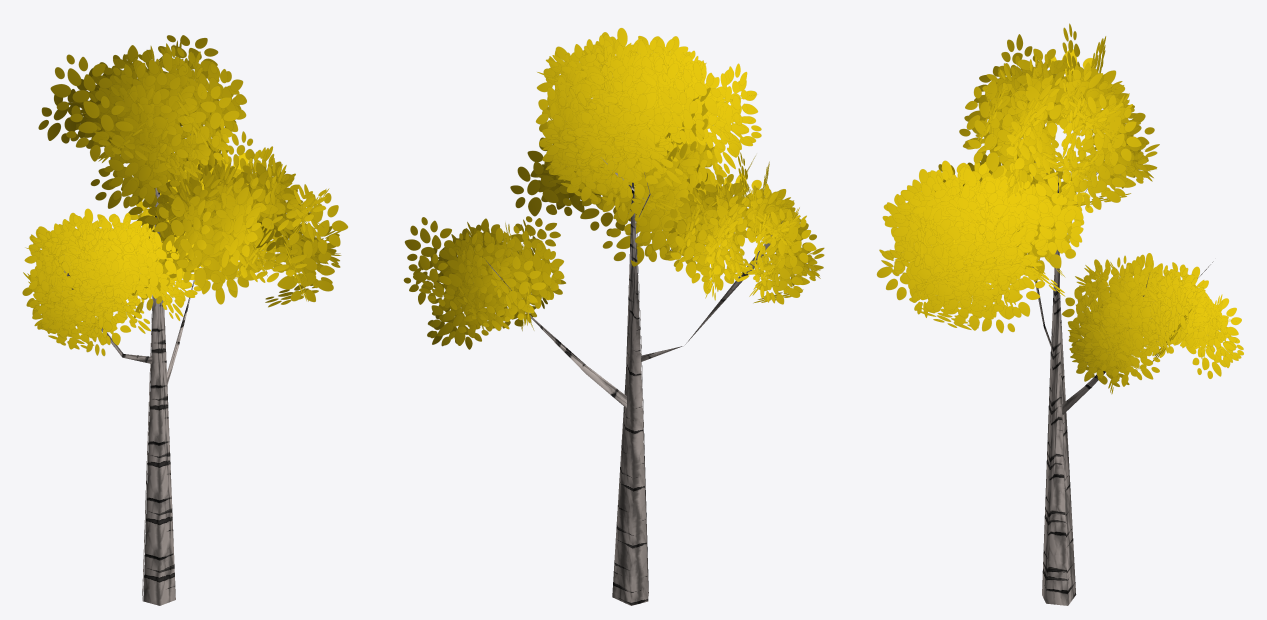
File: Birch_03.glb
3 renders of one model, left to right at view 1: azimuth 30°, elevation 25°; view 2: azimuth 150°, elevation 25°; view 3: azimuth 270°, elevation 25°, orthographic. The views are drawn at different scales.
Parts seen in each view (by area): view 1: BirchTree_5; view 2: BirchTree_5; view 3: BirchTree_5.
Boxes of the visible parts, x1=… form: BirchTree_5: x1=22, y1=35, x2=347, y2=605; BirchTree_5: x1=403, y1=28, x2=824, y2=605; BirchTree_5: x1=876, y1=23, x2=1243, y2=605.
Size of the model in its own units: 3.58 by 5.52 by 3.51.
Materials: 2 (2 with a texture image).
